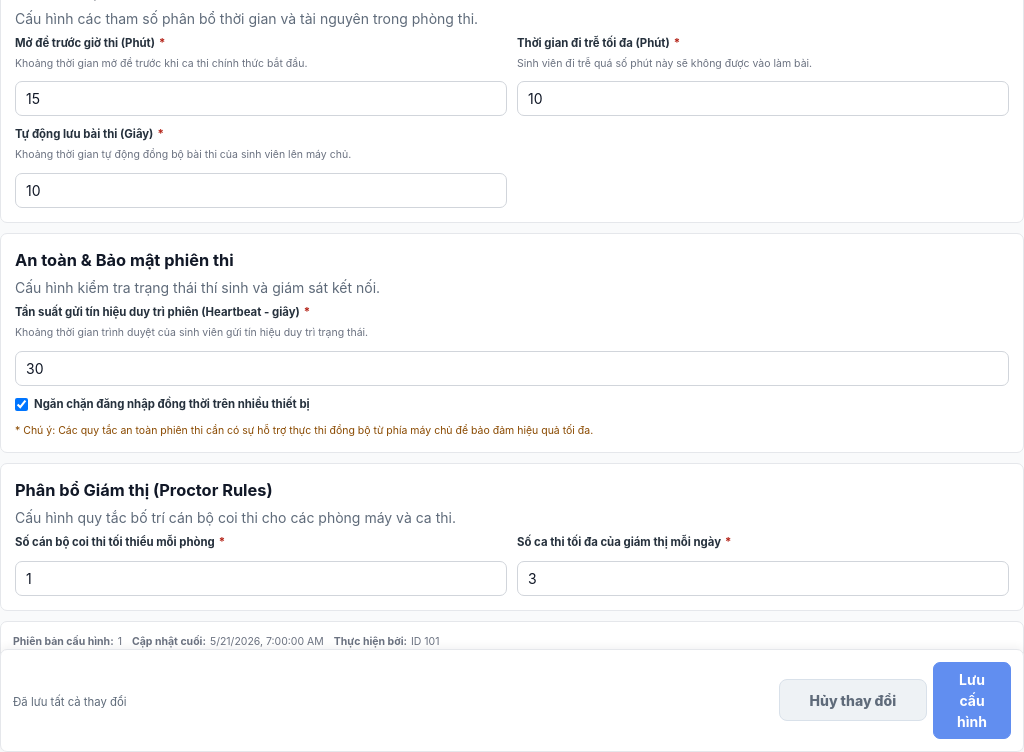
Test: SettingsPage UI and validations › validates heartbeat bounds
(page scrolled)
Replace the text in the number field labelled "Tần suất gửi tín hiệu duy trì phiên (Heartbeat - giây) *" with "2" at x=512, y=368, box [15,351,1009,386]
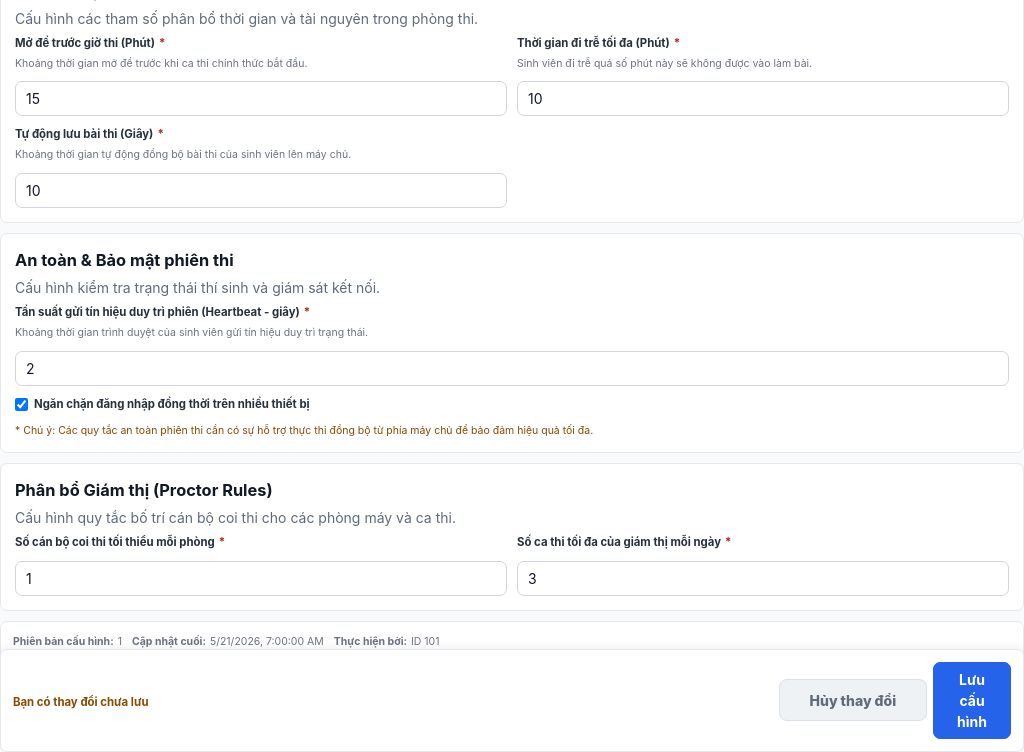
Click the button "Lưu cấu hình" at x=972, y=700, box [933,662,1011,739]
(page scrolled)
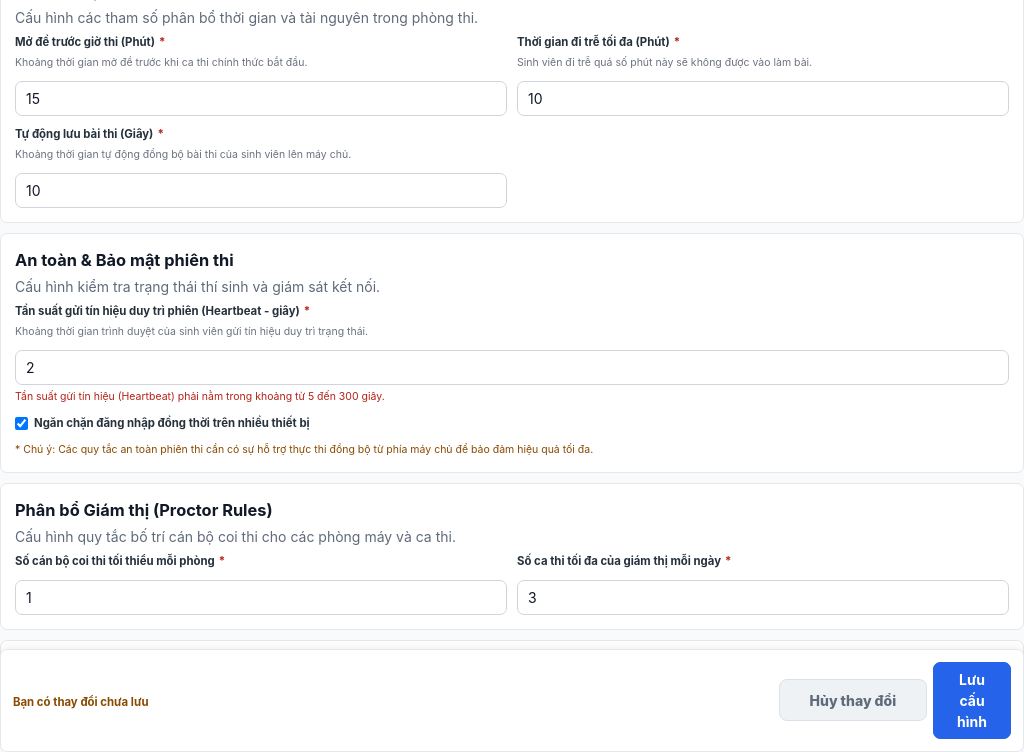
Now the text "Tần suất gửi tín hiệu (Heartbeat) phải nằm trong khoảng từ 5 đến 300 giây." is shown, box [15,390,385,403]
